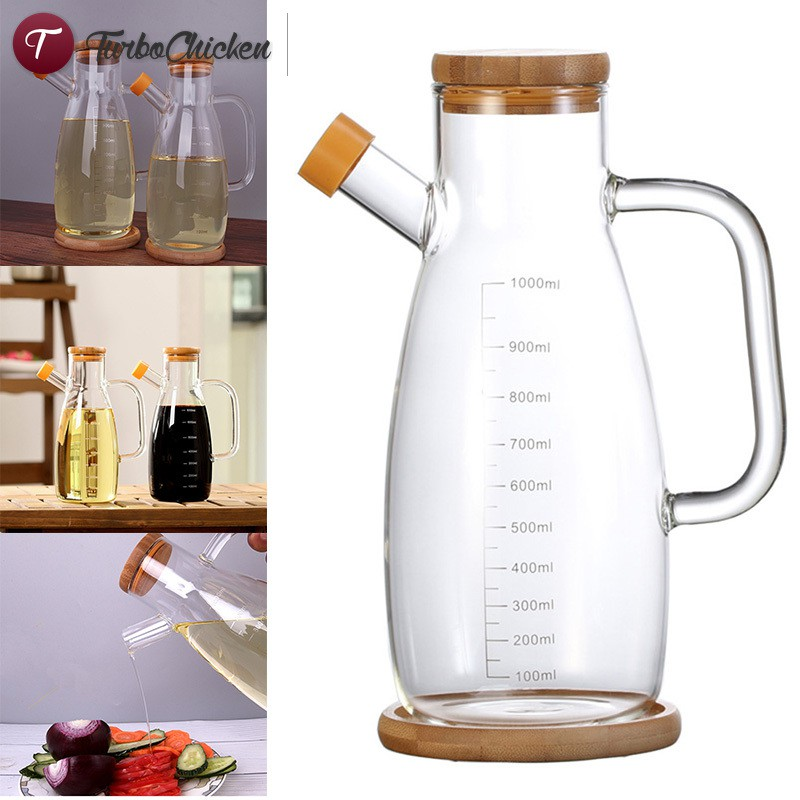glass_bottle: (296, 44, 791, 767), (128, 51, 258, 264), (34, 341, 147, 506), (132, 342, 243, 508)
